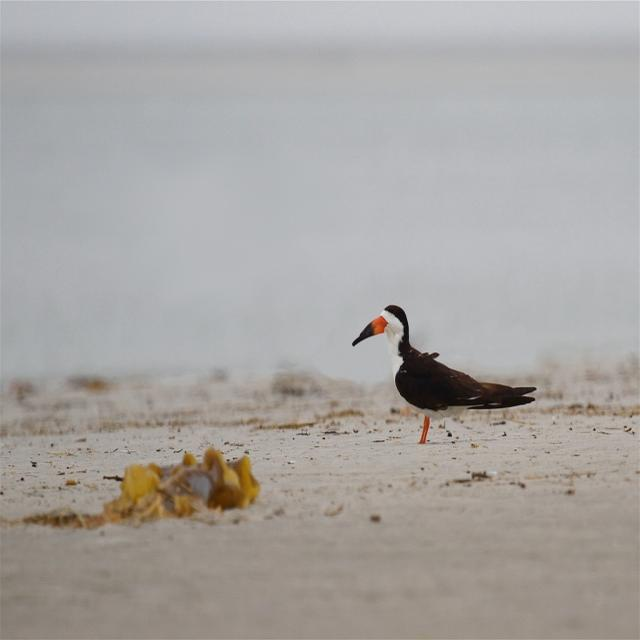bird: (351, 304, 537, 446)
